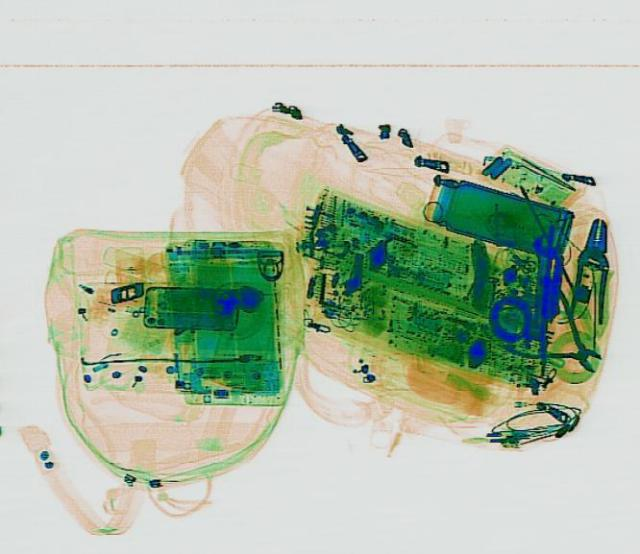Pliers: (476, 273, 630, 393), (568, 216, 616, 322)
